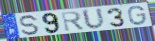3: (107, 7, 127, 28)
9: (41, 12, 63, 34)
G: (127, 5, 148, 26)
R: (60, 11, 86, 33)
S: (19, 14, 41, 36)
U: (81, 7, 107, 31)
